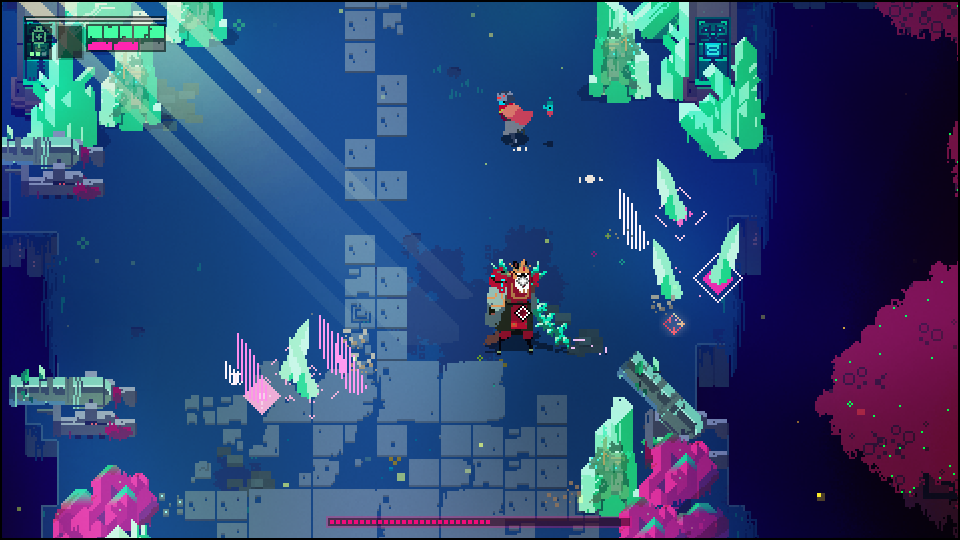hanged_crys: (281, 318, 321, 398), (324, 317, 364, 397), (236, 331, 276, 411), (652, 155, 687, 225), (705, 222, 740, 292), (648, 236, 683, 306), (613, 187, 648, 257)
hanged_man: (474, 255, 590, 363)
player: (493, 90, 538, 149)
